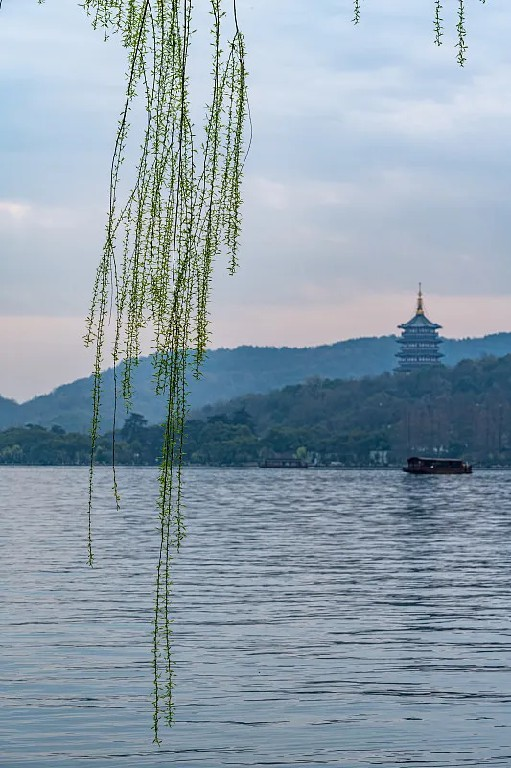Leifeng: (393, 283, 444, 375)
